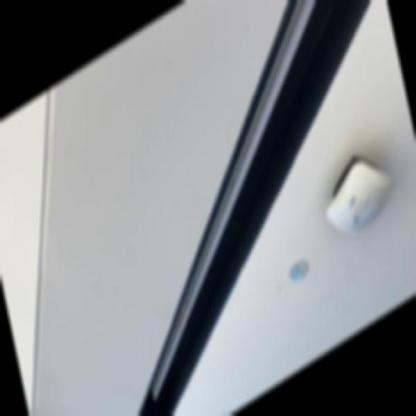light_off: (83, 0, 392, 413)
